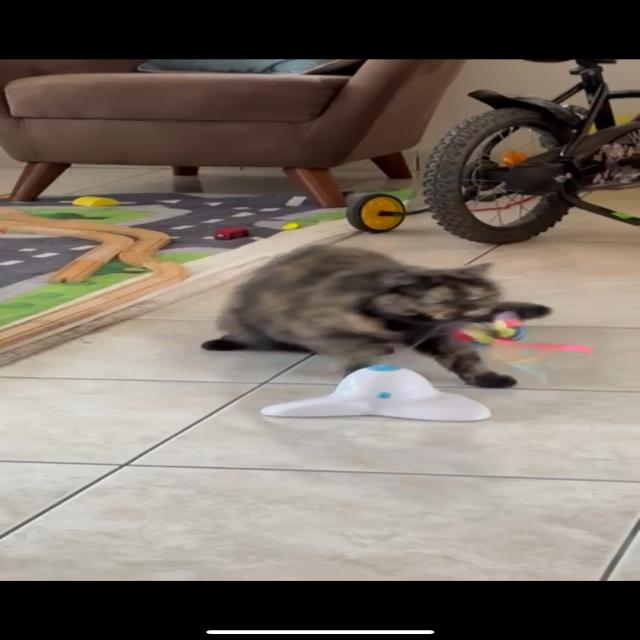authorized: (199, 243, 552, 388)
